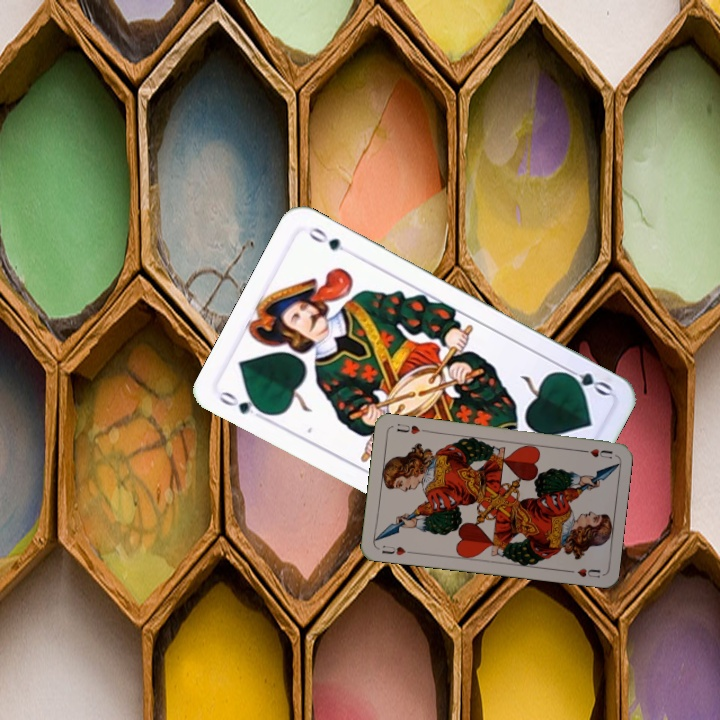GO: (556, 362, 614, 399), (214, 387, 272, 424)
HU: (378, 541, 415, 558), (576, 445, 615, 461)
